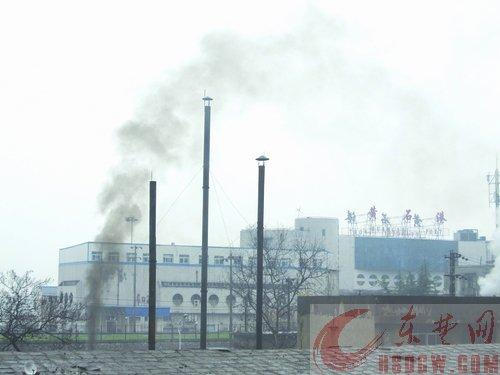smoke: (82, 126, 154, 346)
